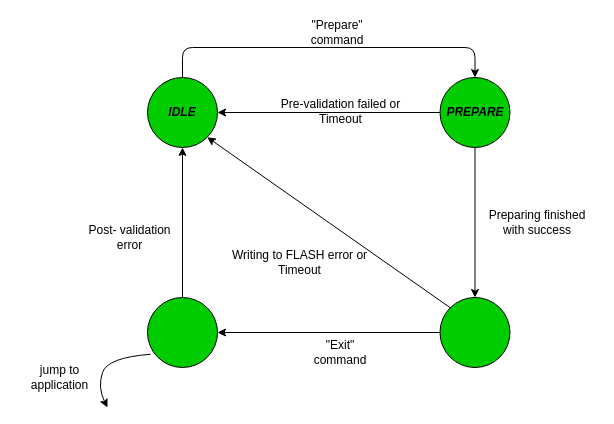
Image size: 614x424. Some labels were removed from this diagram. The box of each missing label's shape, as (x1, y1, x2, y2) in pixels:
EXIT: (146, 296, 218, 368)
FLASHING: (439, 296, 510, 368)
